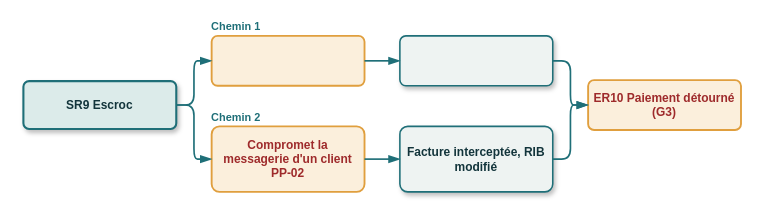
This 759x217 diagram has some shape labels left out. Here are the shapes that lost their labels. From the top down, the centre of each, then its label:
At point (287, 60): "Prend la boîte APP-10 d'une comptable".
At point (476, 61): "Faux RIB envoyé à PP-02".
